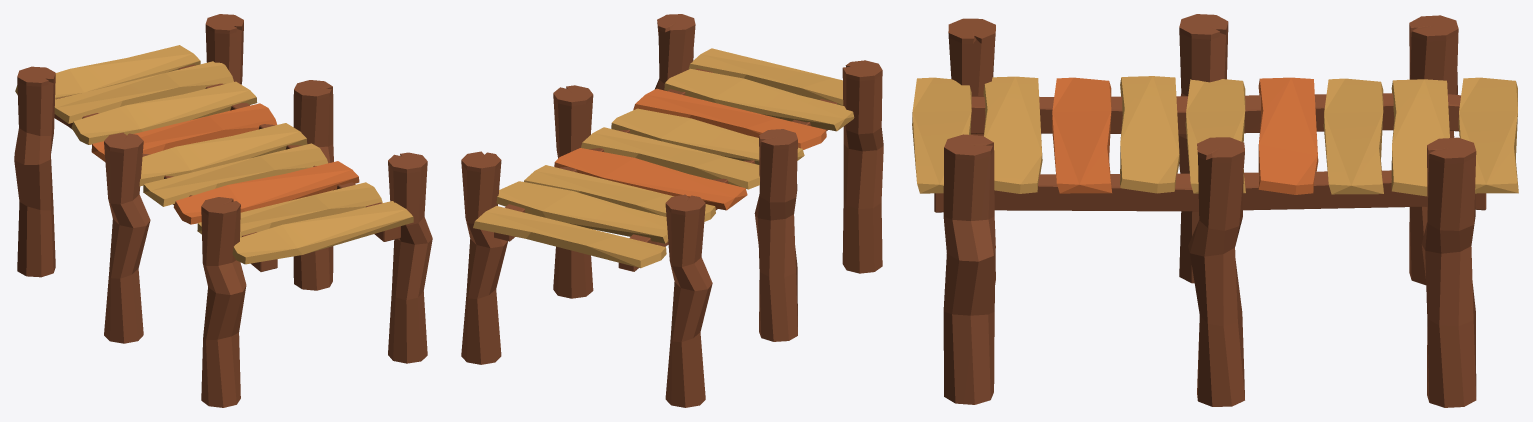
Rendered from Narrow wooden platform.fbx.
The picture shows the model from 3 angles, left to right: view 1: azimuth 30°, elevation 25°; view 2: azimuth 150°, elevation 25°; view 3: azimuth 270°, elevation 25°; orthographic projection. The views are drawn at different scales.
Parts seen in each view (by area): view 1: Narrow wooden platform; view 2: Narrow wooden platform; view 3: Narrow wooden platform.
Boxes of the visible parts, x1,y1,x2,y2 form: Narrow wooden platform: (14,14,432,407); Narrow wooden platform: (461,14,883,407); Narrow wooden platform: (912,14,1518,407).
Bounding box in the file's own units: 195 × 154 × 340.
